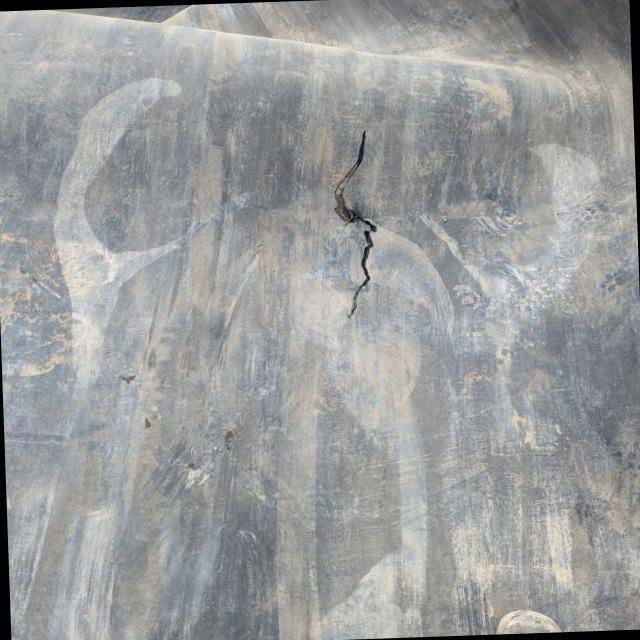Tear: (332, 126, 380, 320)
